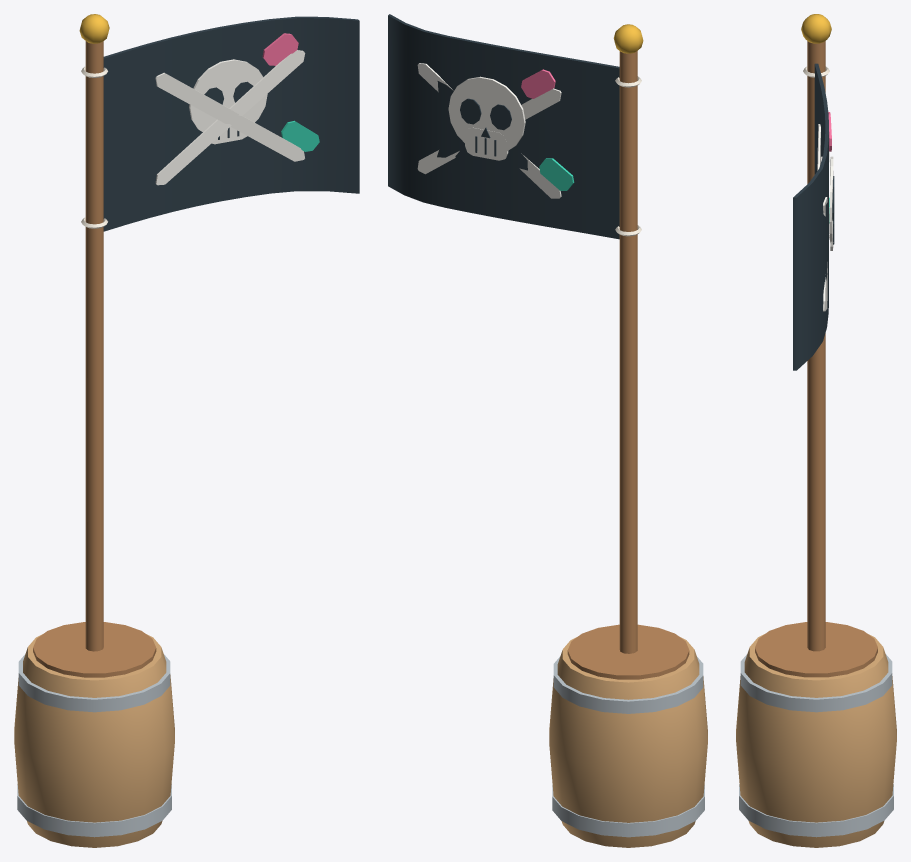
Rendered from prop_jolly_roger.glb.
3 renders of one model, left to right at view 1: azimuth 30°, elevation 25°; view 2: azimuth 150°, elevation 25°; view 3: azimuth 270°, elevation 25°, orthographic.
Parts seen in each view (by area): view 1: JollyRoger; view 2: JollyRoger; view 3: JollyRoger.
Boxes of the visible parts, x1,y1,x2,y2 form: JollyRoger: (14,14,359,847); JollyRoger: (388,14,707,847); JollyRoger: (736,14,896,847).
Size of the model in its own units: 1.21 by 2.88 by 0.5219.
